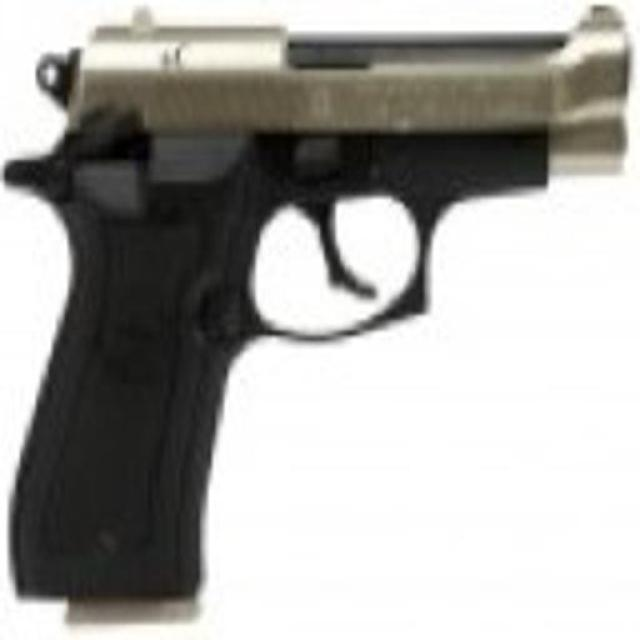pistol: (7, 5, 631, 596)
